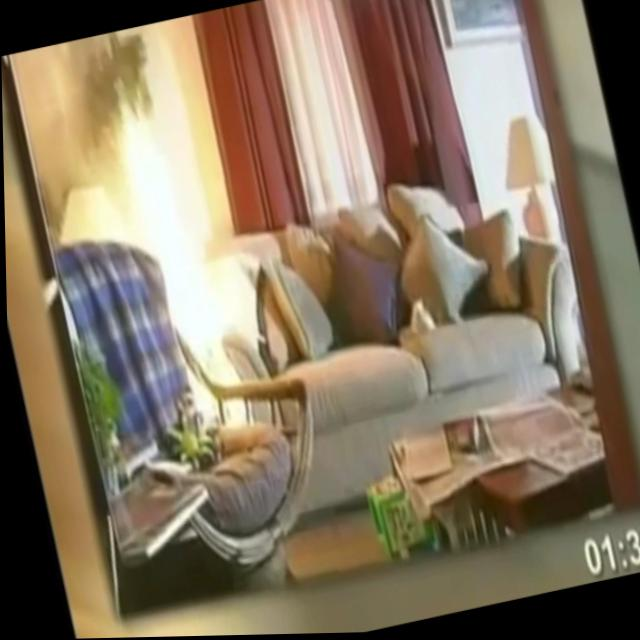fire: (67, 19, 258, 450)
